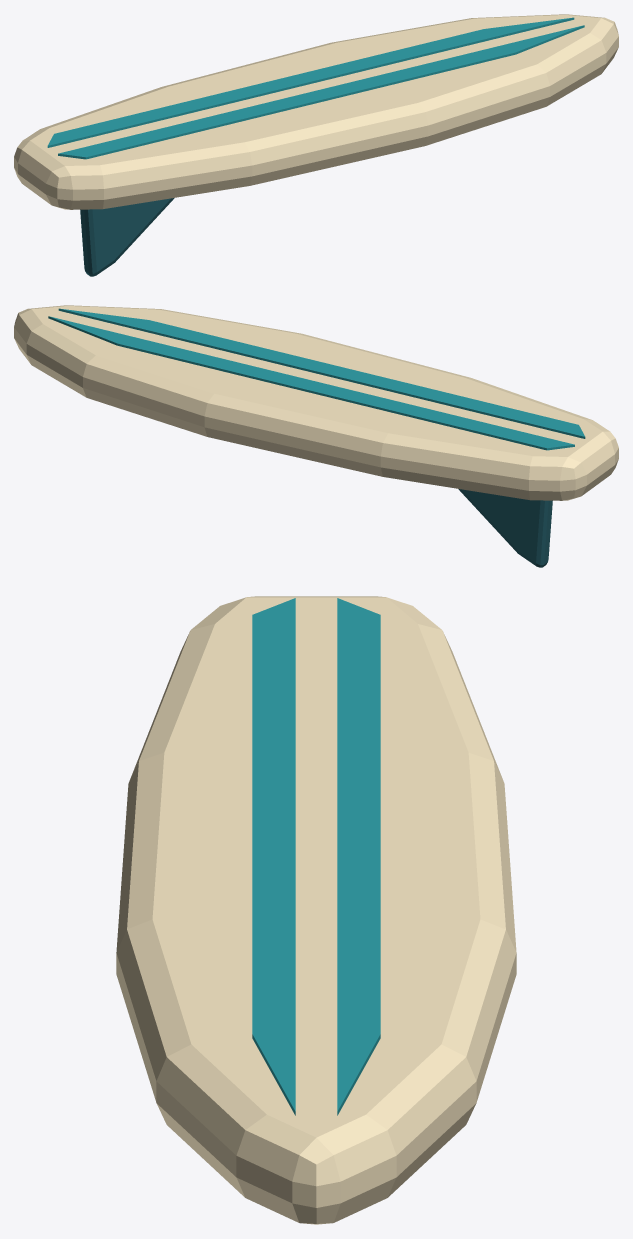
The model's file is surfboard.glb.
The picture shows the model from 3 angles, top to bottom: view 1: azimuth 30°, elevation 25°; view 2: azimuth 150°, elevation 25°; view 3: azimuth 270°, elevation 25°; orthographic projection. The views are drawn at different scales.
Parts seen in each view (by area): view 1: surfboard; view 2: surfboard; view 3: surfboard.
Boxes of the visible parts, x1=… form: surfboard: x1=14, y1=14, x2=618, y2=276; surfboard: x1=14, y1=305, x2=618, y2=567; surfboard: x1=116, y1=596, x2=516, y2=1224.
Size of the model in its own units: 1.69 by 0.3701 by 0.5.
